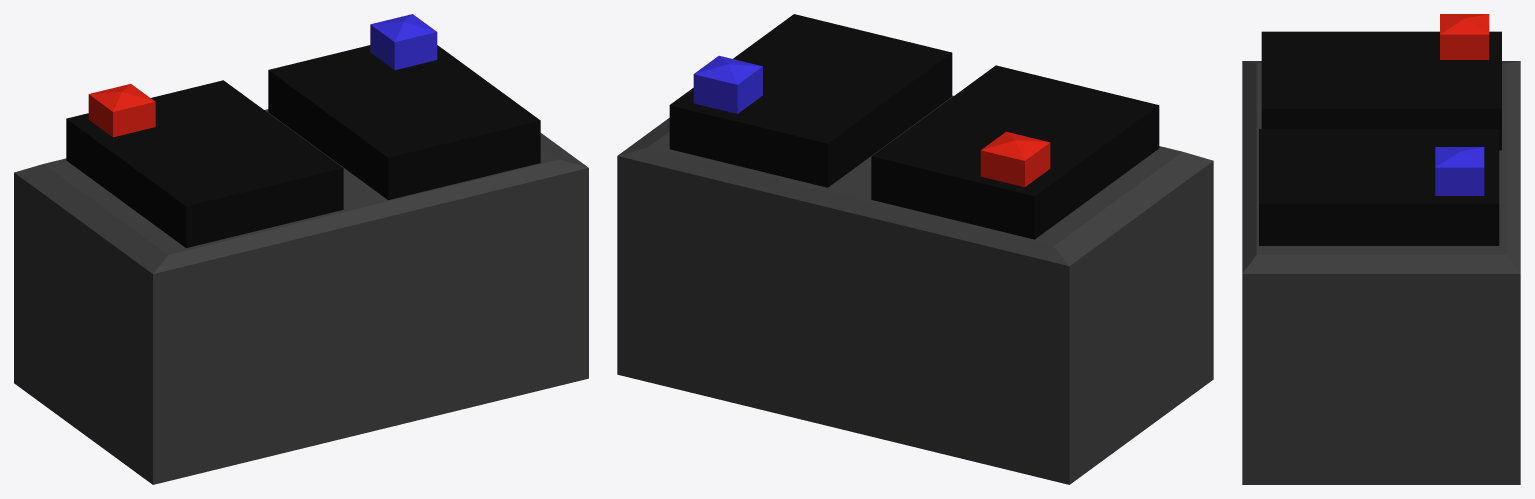
File: generater1.gltf
3 views of the same model, side by side, from view 1: azimuth 30°, elevation 25°; view 2: azimuth 150°, elevation 25°; view 3: azimuth 270°, elevation 25° (orthographic). The views are drawn at different scales.
Visible parts, largest first — view 1: Cube, Cube.002, Cube.001, Cube.006, Cube.004, Cube.003; view 2: Cube.005, Cube, Cube.002, Cube.001, Cube.006, Cube.004, Cube.003; view 3: Cube, Cube.001, Cube.002, Cube.006, Cube.004, Cube.003.
Part boxes in pixels (<box>): Cube: <box>14,133,588,484</box>; Cube.002: <box>66,80,343,248</box>; Cube.001: <box>268,45,540,200</box>; Cube.006: <box>44,109,558,254</box>; Cube.004: <box>370,14,437,70</box>; Cube.003: <box>88,84,155,137</box>; Cube.005: <box>617,181,1069,460</box>; Cube: <box>617,118,1213,484</box>; Cube.002: <box>871,65,1159,239</box>; Cube.001: <box>669,14,952,187</box>; Cube.006: <box>648,95,1182,246</box>; Cube.004: <box>693,55,762,113</box>; Cube.003: <box>980,131,1050,187</box>; Cube: <box>1242,61,1520,484</box>; Cube.001: <box>1259,129,1499,245</box>; Cube.002: <box>1261,31,1501,150</box>; Cube.006: <box>1256,63,1506,254</box>; Cube.004: <box>1435,147,1484,195</box>; Cube.003: <box>1440,14,1489,59</box>.
Size of the model in its own units: 3.62 by 2.35 by 2.
